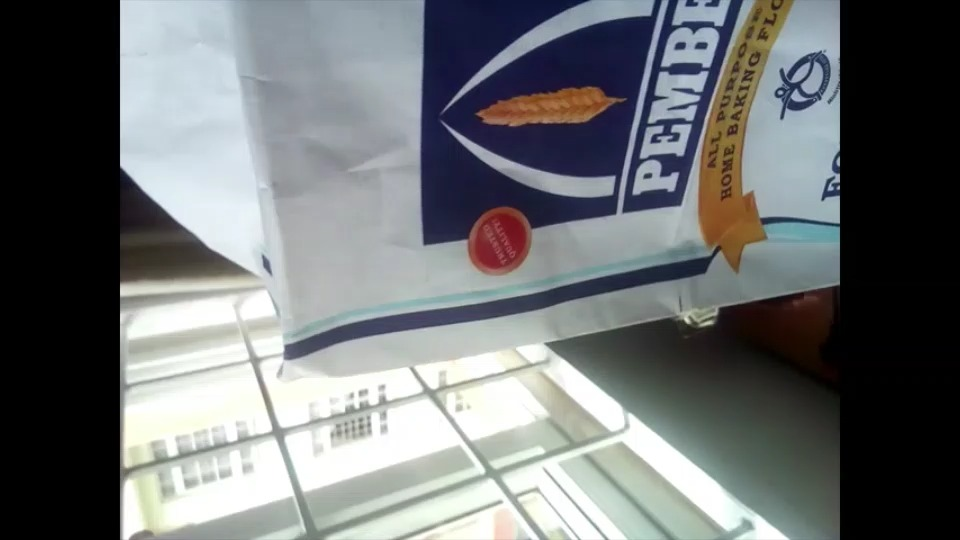wheat_flour_blue_label: (123, 2, 838, 365)
